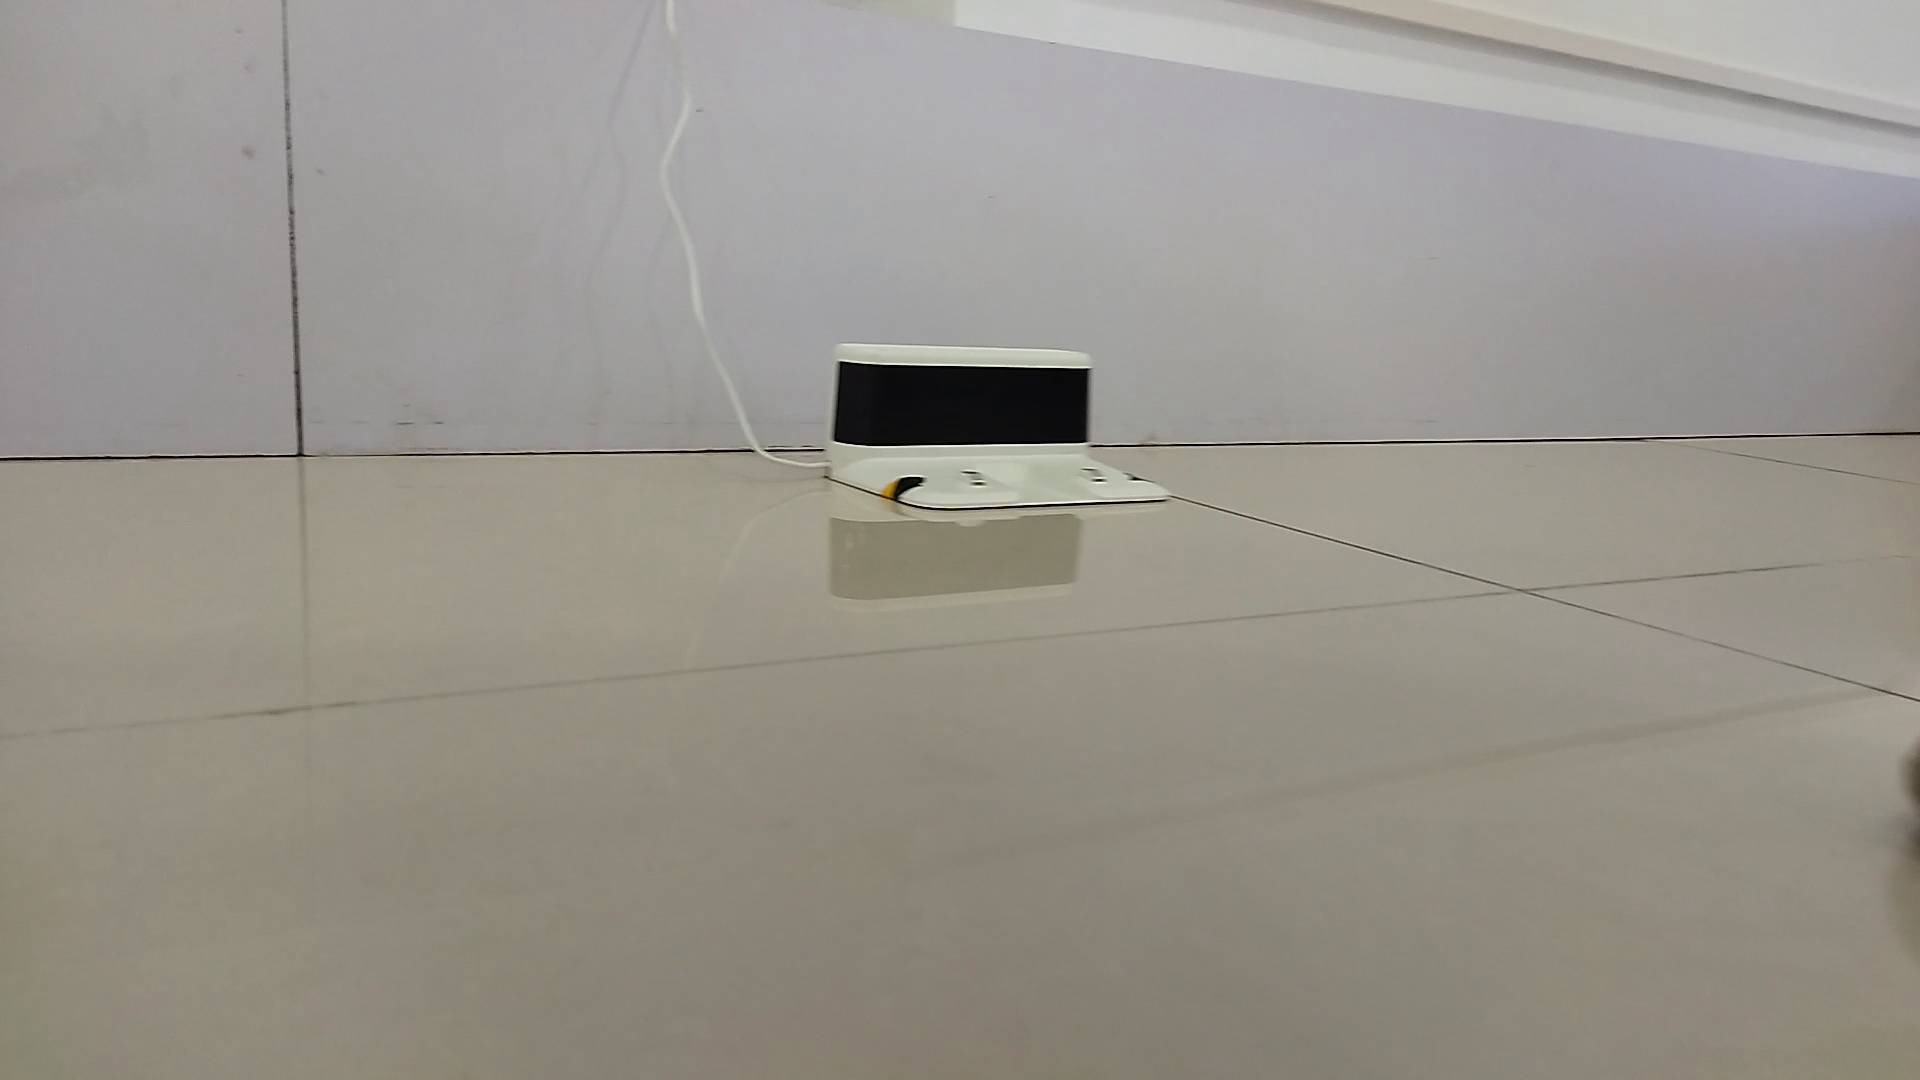recharge seat: (823, 338, 1176, 512)
